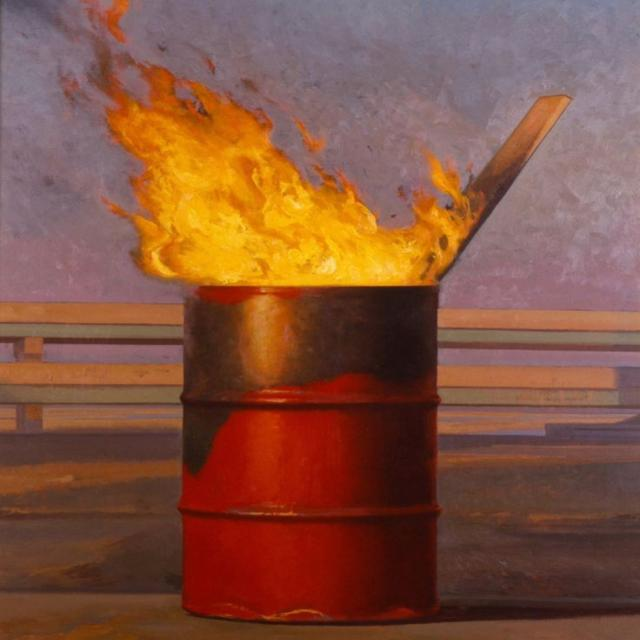fire: (98, 61, 476, 286)
